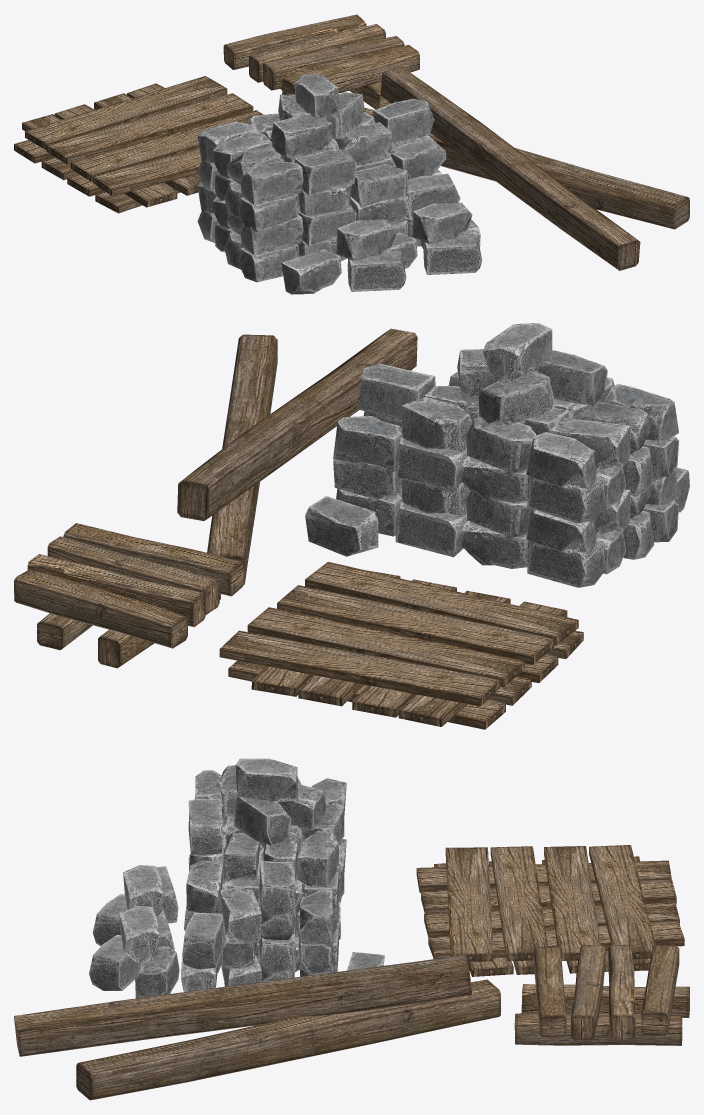
Rendered from CA_Well_Construction_Stage0.fbx.
3 views of the same model, one above another, from view 1: azimuth 30°, elevation 25°; view 2: azimuth 150°, elevation 25°; view 3: azimuth 270°, elevation 25° (orthographic). The views are drawn at different scales.
Visible parts, largest first — view 1: CA_Well_Stage0; view 2: CA_Well_Stage0; view 3: CA_Well_Stage0.
Boxes of the visible parts, x1,y1,x2,y2 form: CA_Well_Stage0: [14, 14, 689, 294]; CA_Well_Stage0: [14, 323, 689, 729]; CA_Well_Stage0: [14, 758, 689, 1100].
Size of the model in its own units: 349 by 121 by 415.
